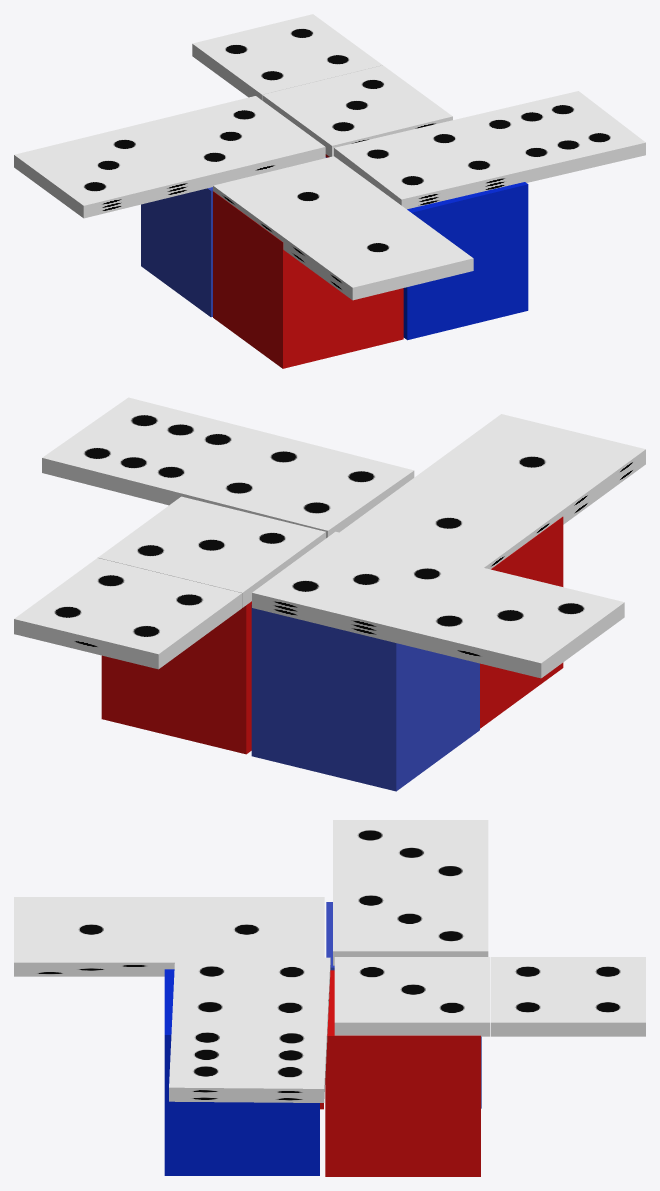
File: blocks_7.glb
3 renders of one model, top to bottom at view 1: azimuth 30°, elevation 25°; view 2: azimuth 150°, elevation 25°; view 3: azimuth 270°, elevation 25°, orthographic. The views are drawn at different scales.
Parts seen in each view (by area): view 1: Cube.008, Cube.009, Cube.004, Cube, Cube.002, Cube.001, Cube.003, Cube.007, Cube.006, Cube.005, Cube.010; view 2: Cube.010, Cube.004, Cube.007, Cube.003, Cube.001, Cube.011, Cube, Cube.002, Cube.006, Cube.005, Cube.008; view 3: Cube.011, Cube.001, Cube.009, Cube.007, Cube, Cube.006, Cube.003, Cube.002, Cube.004, Cube.005, Cube.010.
Boxes of the visible parts, x1,y1,x2,y2 form: Cube.008: [213, 191, 403, 368]; Cube.009: [403, 182, 528, 340]; Cube.004: [14, 125, 204, 218]; Cube: [283, 207, 473, 300]; Cube.002: [334, 119, 523, 209]; Cube.001: [457, 91, 645, 182]; Cube.003: [135, 96, 325, 188]; Cube.007: [192, 14, 382, 99]; Cube.006: [262, 65, 452, 156]; Cube.005: [213, 156, 403, 241]; Cube.010: [141, 157, 326, 317]; Cube.010: [251, 605, 479, 791]; Cube.004: [396, 567, 624, 678]; Cube.007: [14, 558, 241, 669]; Cube.003: [252, 531, 479, 642]; Cube.001: [42, 397, 270, 505]; Cube.011: [101, 601, 251, 754]; Cube: [418, 414, 645, 524]; Cube.002: [185, 434, 414, 538]; Cube.006: [98, 496, 325, 607]; Cube.005: [339, 475, 562, 569]; Cube.008: [480, 516, 563, 728]; Cube.011: [325, 970, 480, 1176]; Cube.001: [169, 1022, 327, 1102]; Cube.009: [164, 969, 319, 1175]; Cube.007: [490, 957, 645, 1036]; Cube: [14, 897, 169, 976]; Cube.006: [334, 957, 489, 1036]; Cube.003: [333, 885, 488, 965]; Cube.002: [172, 956, 330, 1033]; Cube.004: [333, 820, 488, 885]; Cube.005: [169, 897, 324, 969]; Cube.010: [326, 902, 481, 1108].
Size of the model in its own units: 8.12 by 2.21 by 8.14.
5 materials, 1 textured.
